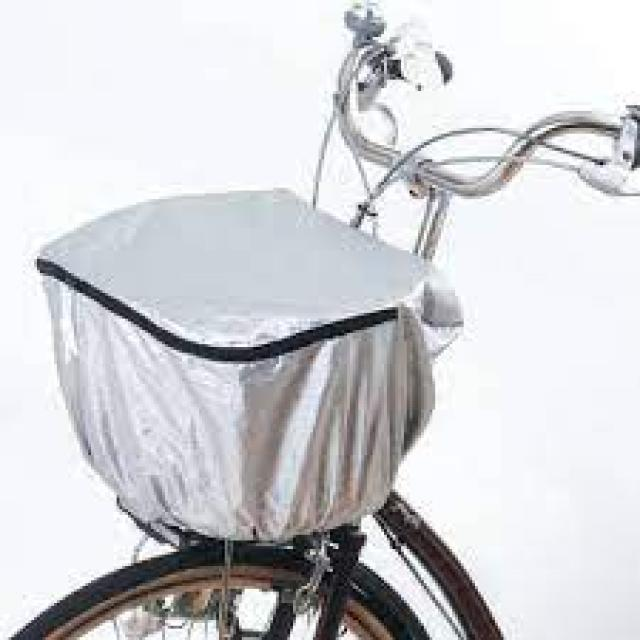basket: (35, 184, 462, 541)
